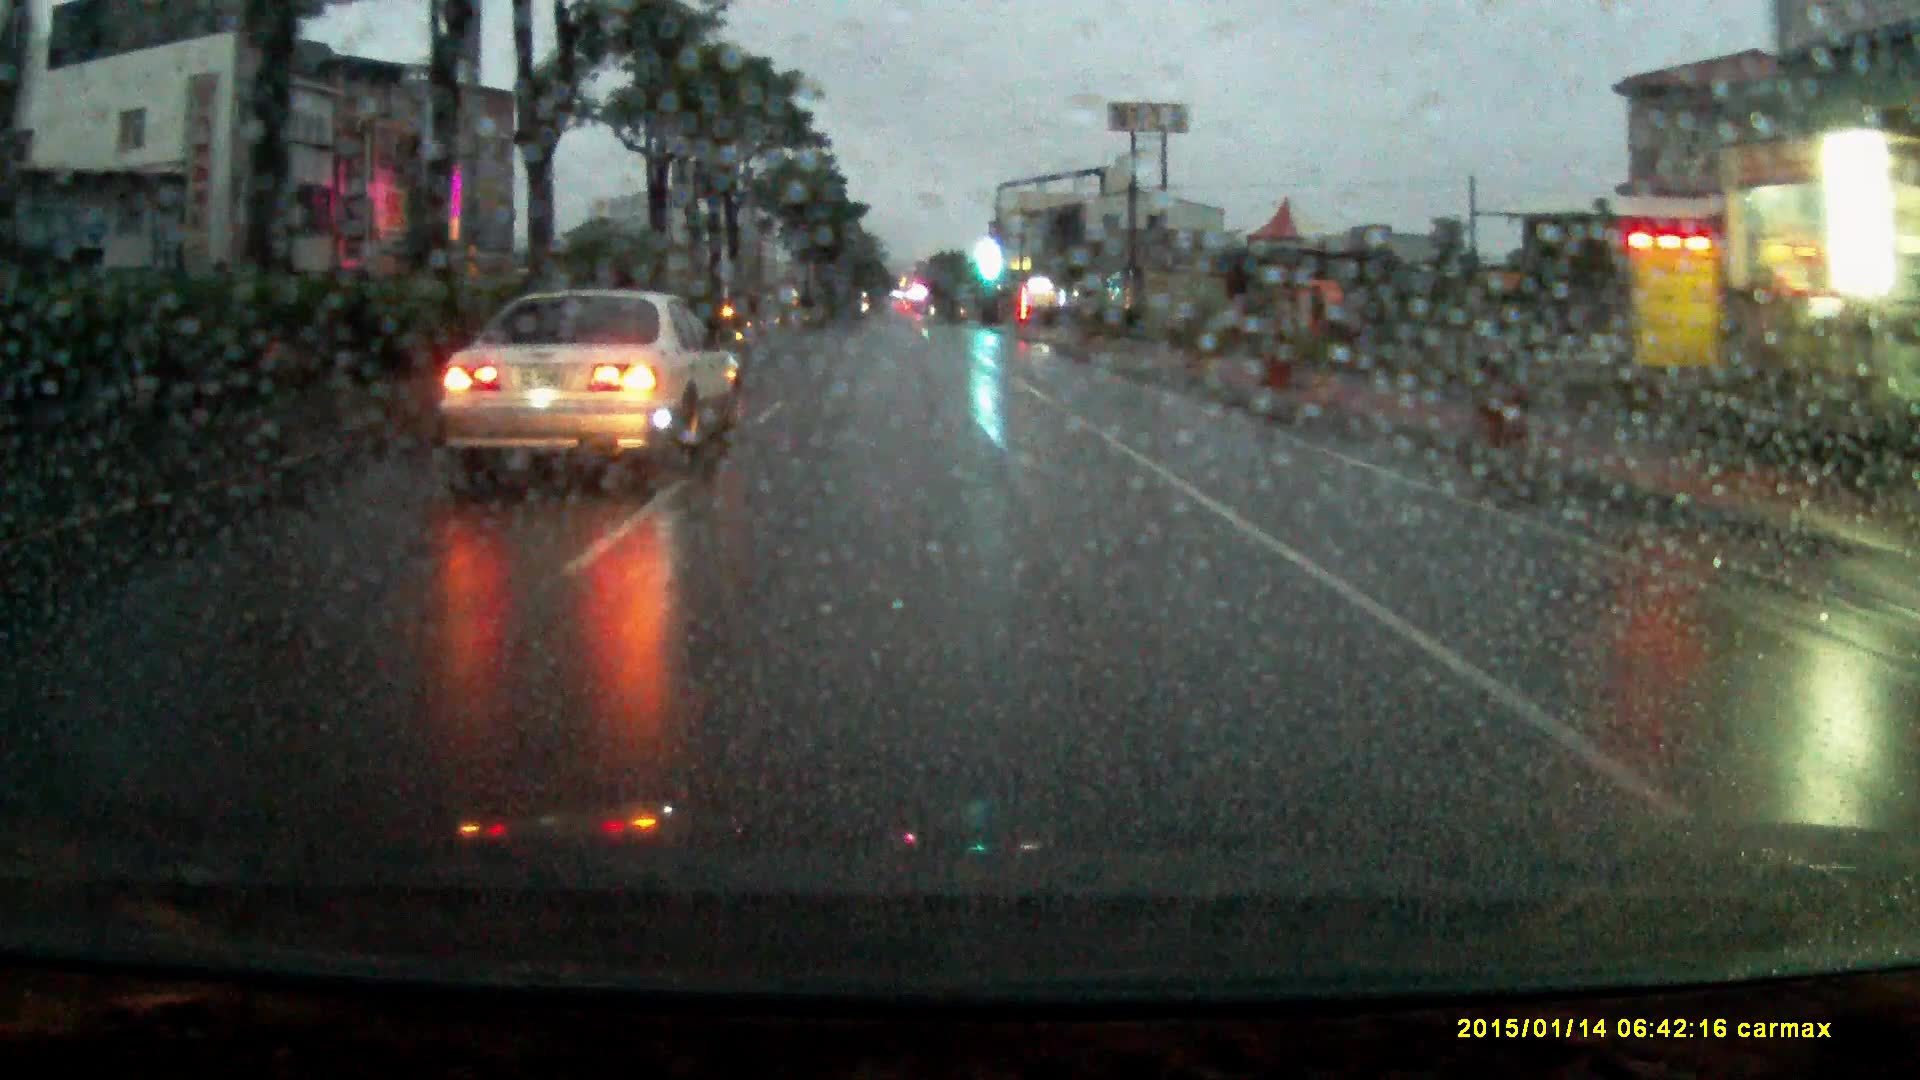pedestrian: (1290, 277, 1349, 383)
vehicle: (443, 288, 757, 494)
